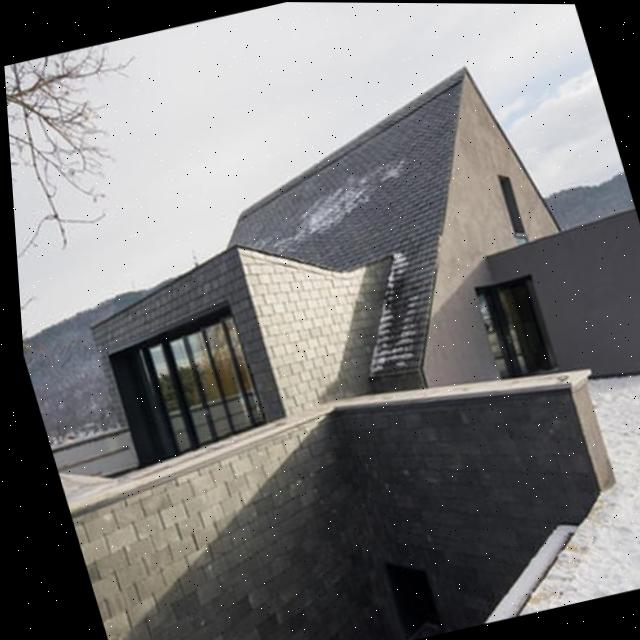building: (3, 49, 640, 640)
